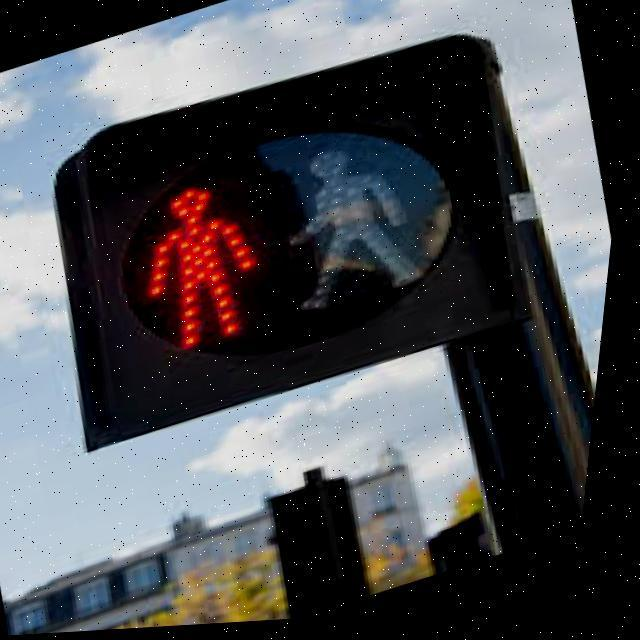red_light: (120, 174, 292, 368)
